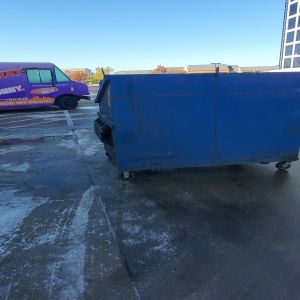Dumpster: (94, 74, 300, 180)
